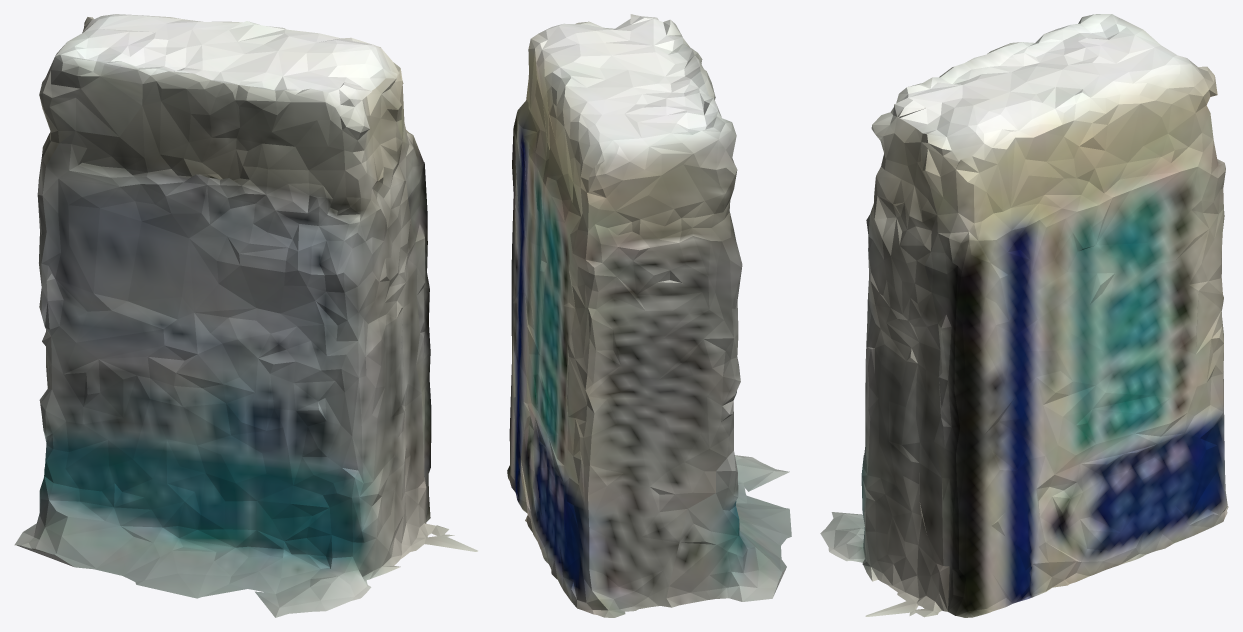
File: eraser kiri c.glb
3 views of the same model, side by side, from view 1: azimuth 30°, elevation 25°; view 2: azimuth 150°, elevation 25°; view 3: azimuth 270°, elevation 25° (orthographic). The views are drawn at different scales.
Parts seen in each view (by area): view 1: 29d45ff4-86f0-4fab-bae5-77a2d2d27f60; view 2: 29d45ff4-86f0-4fab-bae5-77a2d2d27f60; view 3: 29d45ff4-86f0-4fab-bae5-77a2d2d27f60.
Boxes of the visible parts, box(x1,y1,x2,y2) form: 29d45ff4-86f0-4fab-bae5-77a2d2d27f60: box(14, 14, 477, 617); 29d45ff4-86f0-4fab-bae5-77a2d2d27f60: box(507, 14, 791, 617); 29d45ff4-86f0-4fab-bae5-77a2d2d27f60: box(820, 14, 1228, 617).
Bounding box in the file's own units: 0.8764 × 1.17 × 0.9226.
1 material, 1 textured.
